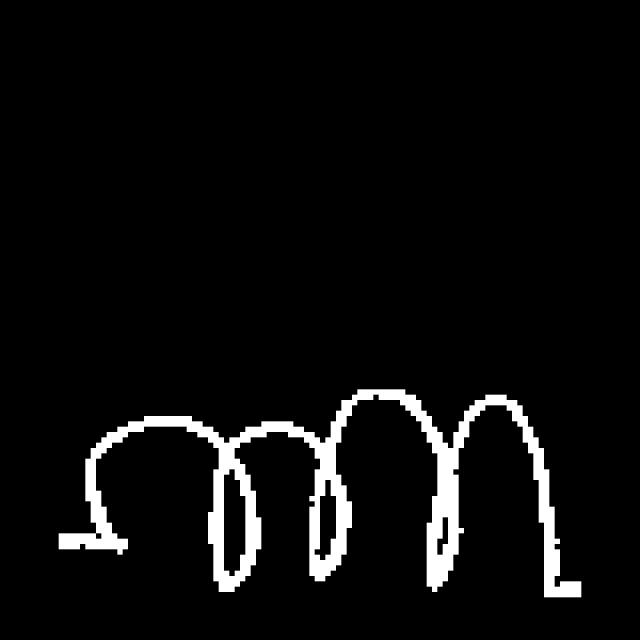inductor: (73, 376, 565, 607)
